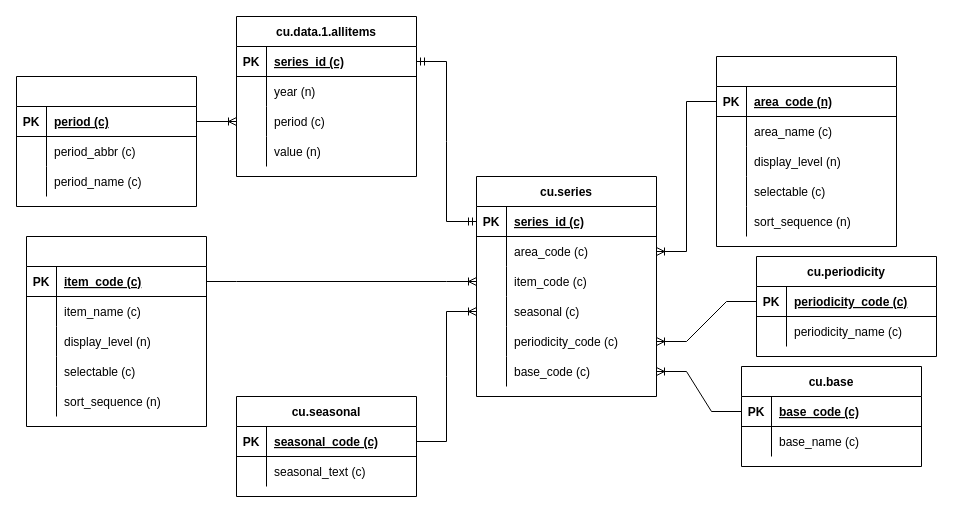
Some shapes in this 953 by 513 pixel diagram are drawn without their labels. Here are the shapes that lost their labels. From the top down, the box of each, then its label:
(16, 76, 196, 206): cu.period
(716, 56, 896, 246): cu.area
(26, 236, 206, 426): cu.item
